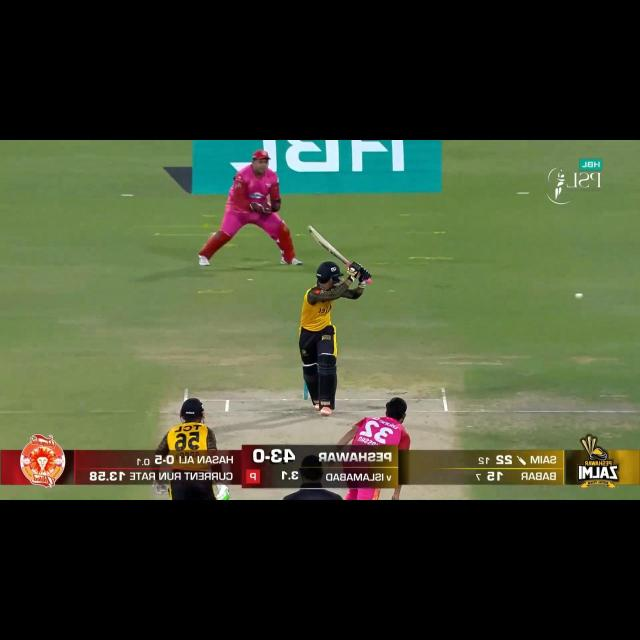bat: (308, 225, 351, 265)
toe: (307, 225, 314, 234)
